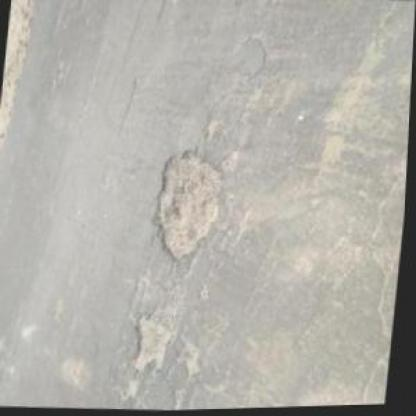pothole: (150, 147, 229, 265), (129, 309, 175, 376)
